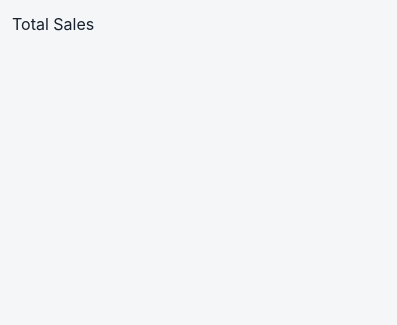
Scenario: TooltipRegistry scroll and contextmenu › keeps a hovered tooltip when a queued container scroll event arrives after entry
Later steps or results of the test are not shown.
Hover over the element showing "Total Sales" at (53, 24), box x1=12 y1=12 x2=94 y2=36
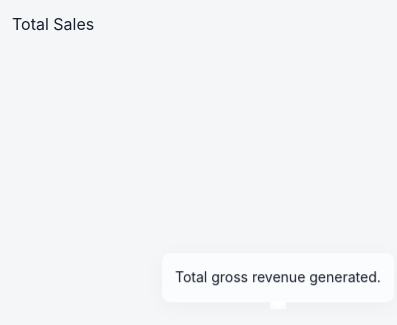
Expected: the tooltip reads "Total gross revenue generated.", x1=175 y1=268 x2=381 y2=285
